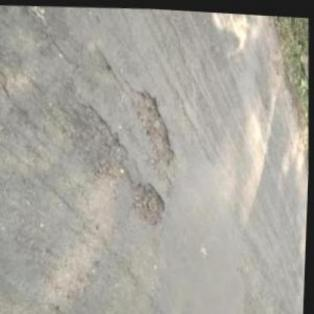Hueco: (66, 98, 130, 184), (134, 86, 179, 168), (129, 178, 168, 227)
